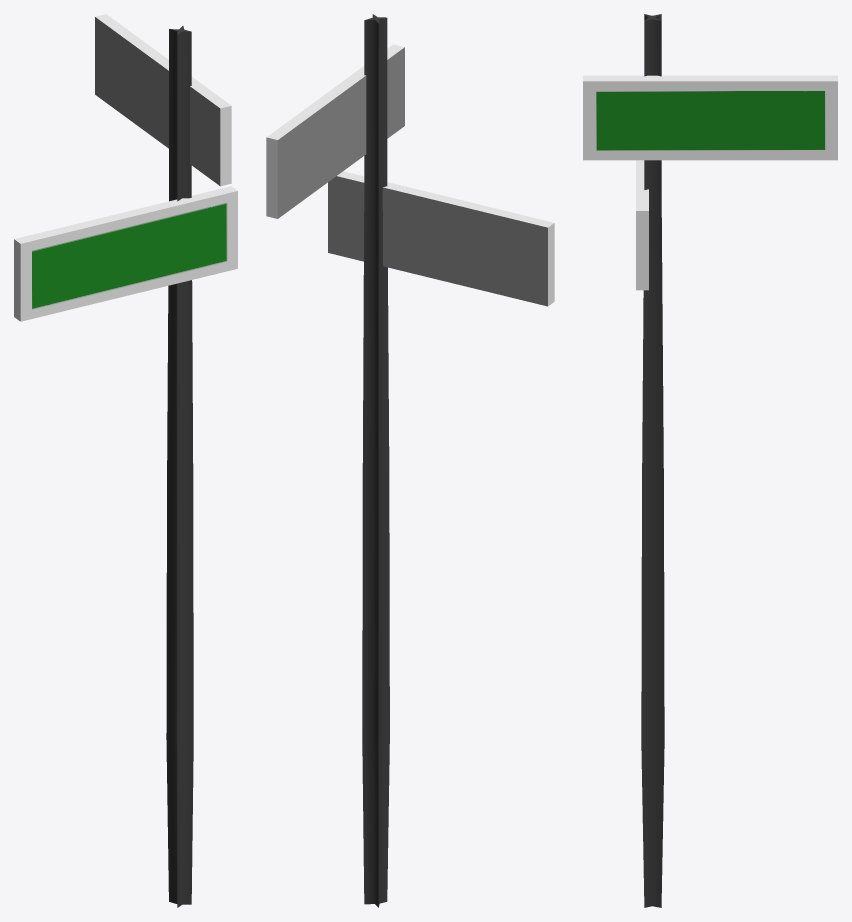
File: StreetSignAsset.fbx
3 views of the same model, side by side, from view 1: azimuth 30°, elevation 25°; view 2: azimuth 150°, elevation 25°; view 3: azimuth 270°, elevation 25° (orthographic).
Parts seen in each view (by area): view 1: streetsign3; view 2: streetsign3; view 3: streetsign3.
Part boxes in pixels (left/top/right/bottom): streetsign3: left=14, top=14, right=237, bottom=907; streetsign3: left=266, top=14, right=554, bottom=907; streetsign3: left=583, top=14, right=837, bottom=907.
Bounding box in the file's own units: 62.17 × 239 × 62.17.
